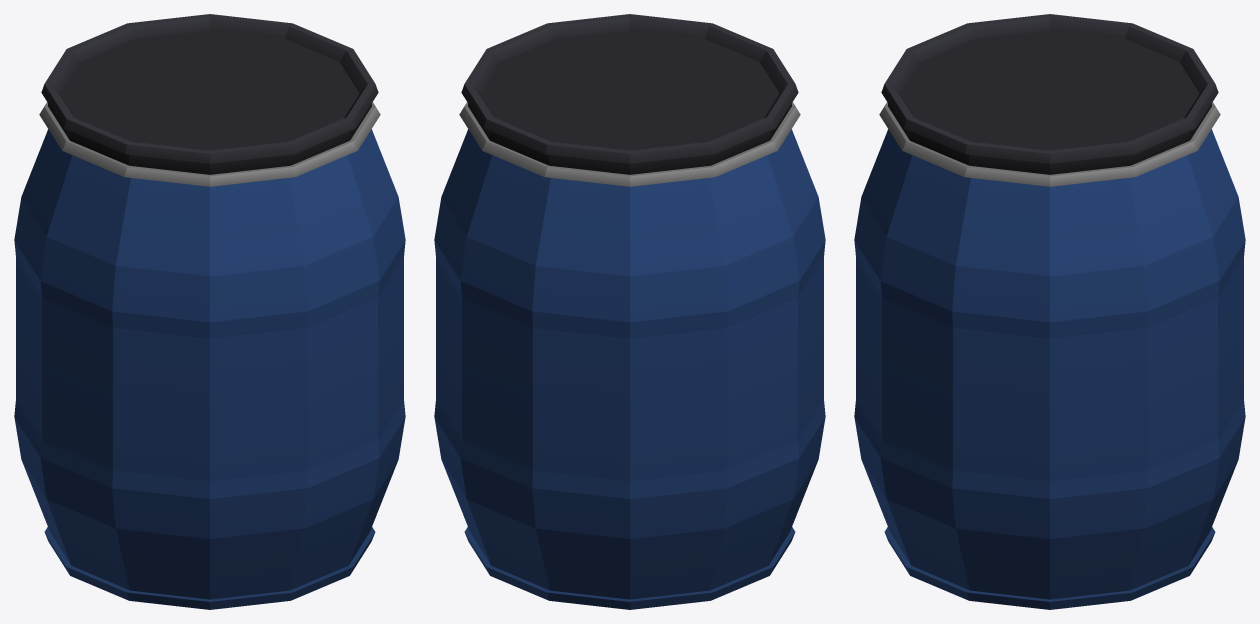
Rendered from Prop_Water_Barrel_01.obj.
The picture shows the model from 3 angles, left to right: view 1: azimuth 30°, elevation 25°; view 2: azimuth 150°, elevation 25°; view 3: azimuth 270°, elevation 25°; orthographic projection.
Visible parts, largest first — view 1: Prop_Water_Barrel_01; view 2: Prop_Water_Barrel_01; view 3: Prop_Water_Barrel_01.
Boxes of the visible parts, left/top/right/bottom form: Prop_Water_Barrel_01: left=14, top=14, right=405, bottom=609; Prop_Water_Barrel_01: left=434, top=14, right=825, bottom=609; Prop_Water_Barrel_01: left=854, top=14, right=1245, bottom=609.
Bounding box in the file's own units: 0.7143 × 0.9219 × 0.7143.
Materials: 1 (1 with a texture image).
